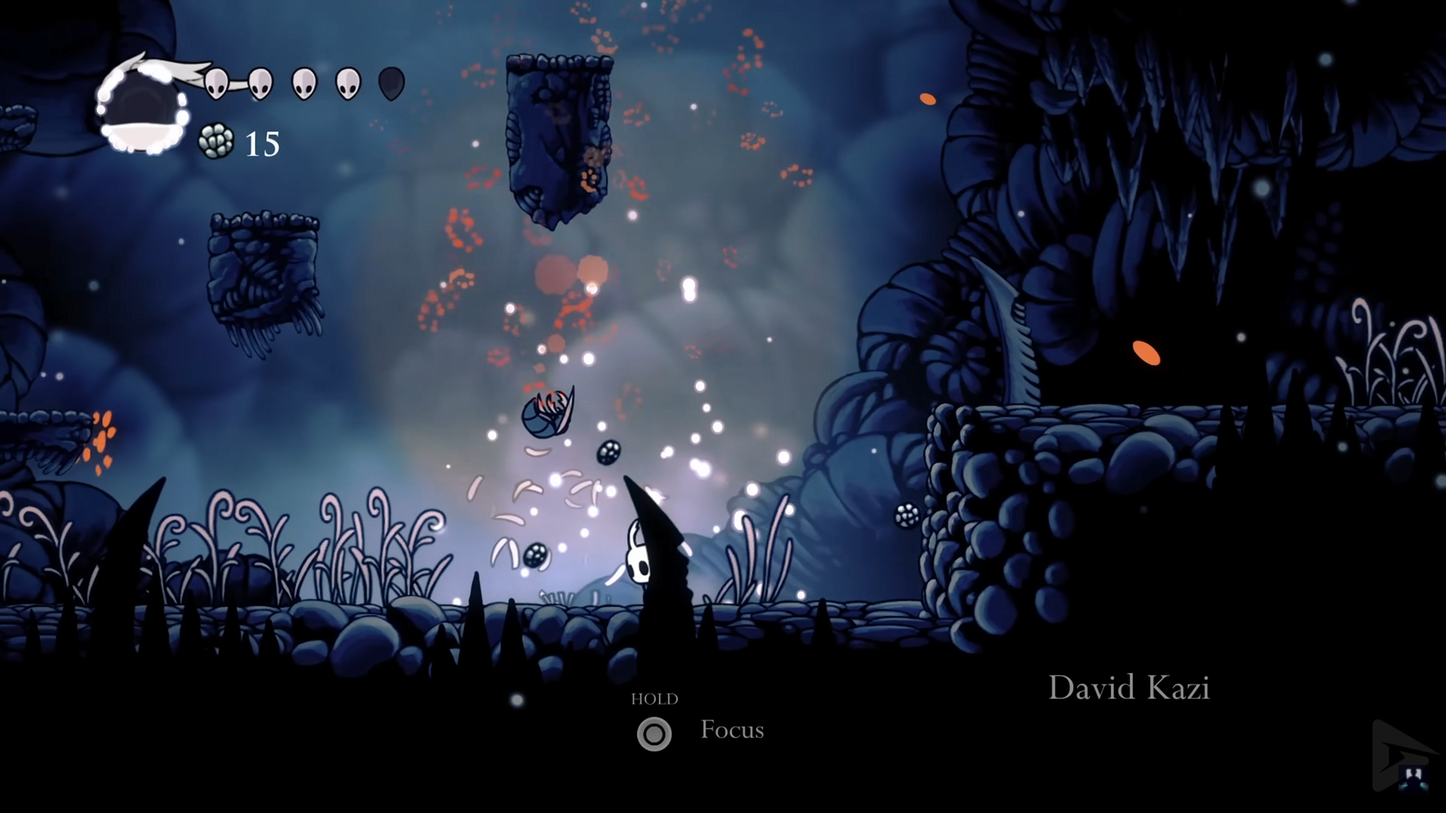HK: (621, 518, 654, 601)
